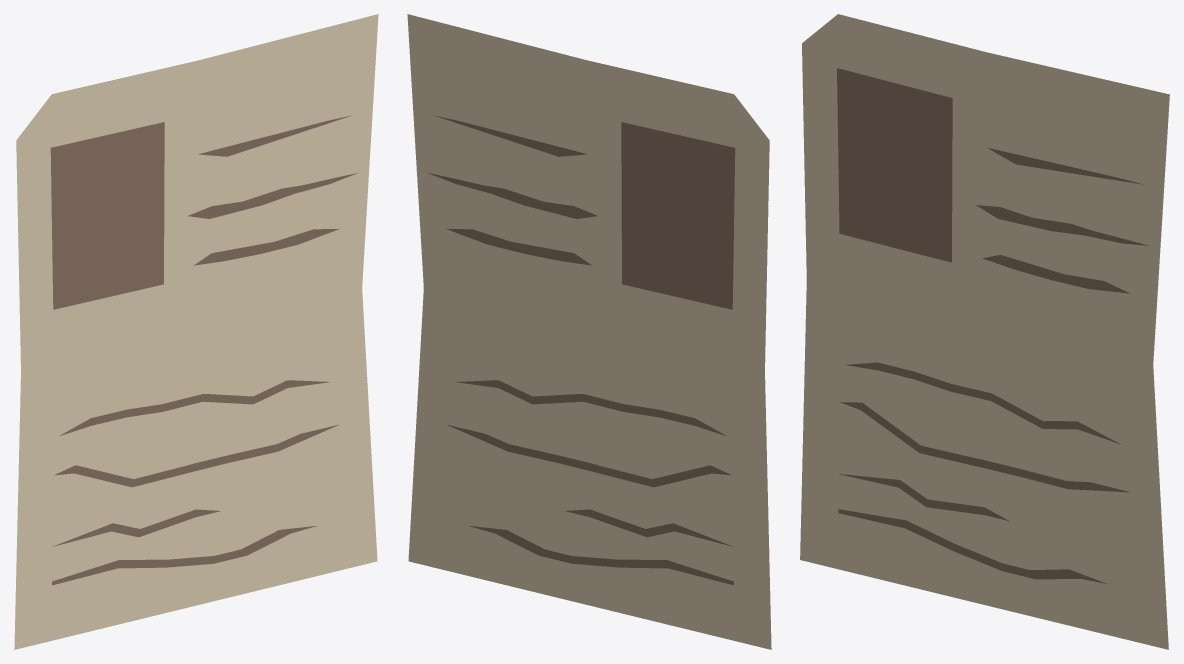
Rendered from SFHW_Paper_002.fbx.
The picture shows the model from 3 angles, left to right: view 1: azimuth 30°, elevation 25°; view 2: azimuth 150°, elevation 25°; view 3: azimuth 330°, elevation 25°; orthographic projection.
Parts seen in each view (by area): view 1: SFHW_Paper_002; view 2: SFHW_Paper_002; view 3: SFHW_Paper_002.
Part boxes in pixels (box(x1,y1,x2,y2)): SFHW_Paper_002: box(14, 14, 378, 649); SFHW_Paper_002: box(407, 14, 771, 649); SFHW_Paper_002: box(800, 14, 1169, 649).
Size of the model in its own units: 19.31 by 27.73 by 2.86e-06.
